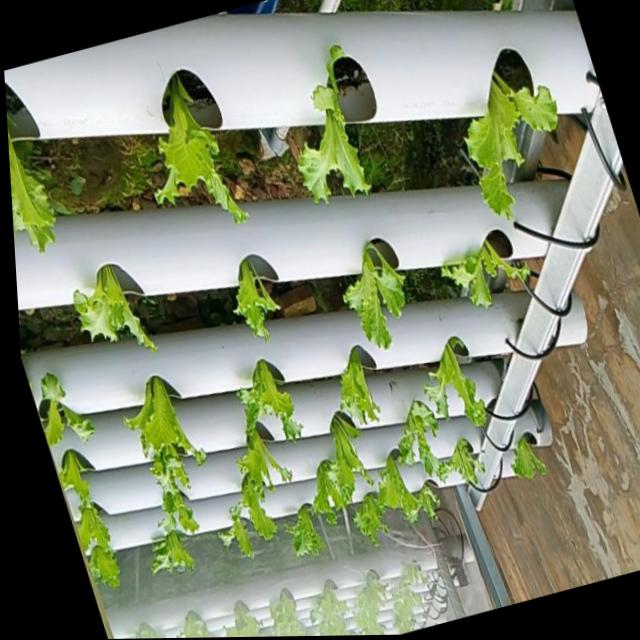Baby: (470, 71, 566, 220), (159, 73, 251, 224), (303, 45, 375, 201), (6, 100, 58, 250), (78, 263, 160, 351), (348, 244, 410, 352), (448, 243, 541, 312), (234, 422, 296, 519), (429, 338, 492, 429), (320, 410, 378, 508), (267, 476, 333, 562), (382, 453, 443, 523), (145, 432, 194, 516), (42, 371, 99, 443), (254, 359, 304, 439), (238, 260, 283, 342), (78, 499, 121, 577), (344, 347, 385, 425), (217, 500, 264, 555), (443, 438, 490, 489), (356, 491, 393, 546), (154, 527, 197, 570), (516, 441, 553, 483)
